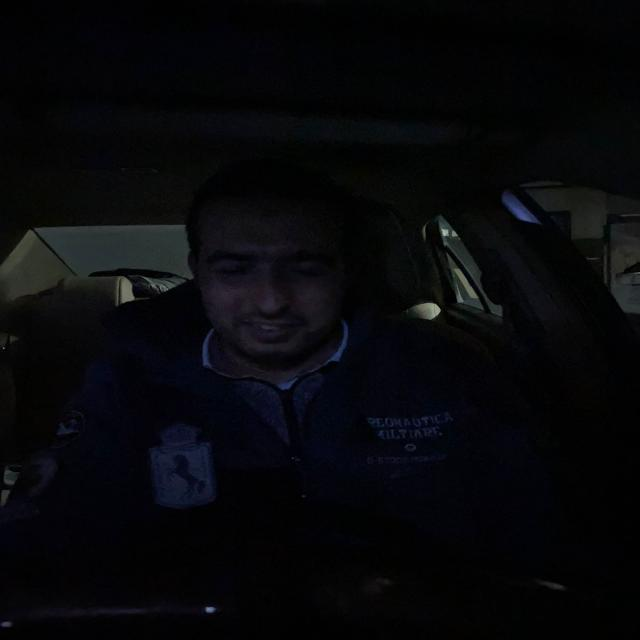drowsy: (174, 156, 373, 380)
